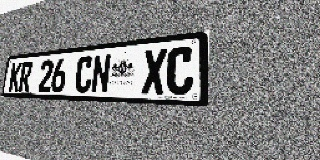2: (38, 59, 54, 92)
6: (50, 58, 68, 93)
C: (166, 46, 194, 95), (74, 55, 94, 93)
K: (8, 62, 22, 92)
N: (91, 54, 111, 93)
R: (18, 61, 33, 92)
X: (141, 48, 167, 94)
